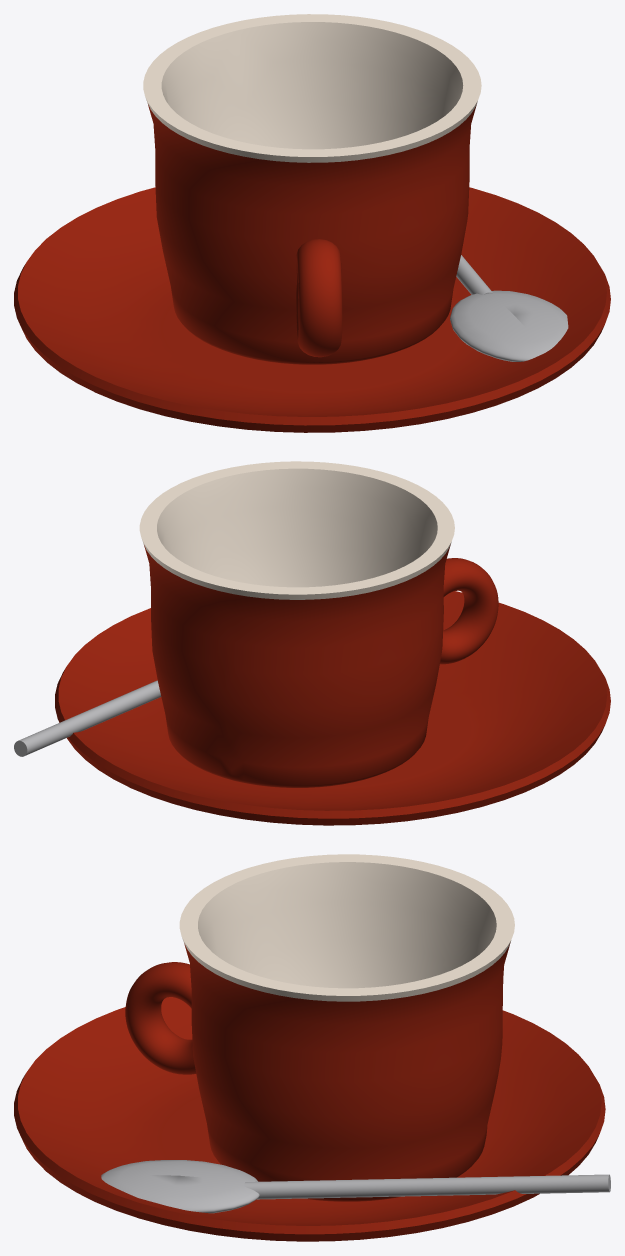
The picture shows the model from 3 angles, top to bottom: view 1: azimuth 30°, elevation 25°; view 2: azimuth 150°, elevation 25°; view 3: azimuth 270°, elevation 25°; orthographic projection. The views are drawn at different scales.
Visible parts, largest first — view 1: saucer, cup, cup_glaze, spoon_bowl, spoon_handle; view 2: cup, saucer, cup_glaze, spoon_handle; view 3: cup, saucer, cup_glaze, spoon_handle, spoon_bowl.
Boxes of the visible parts, x1,y1,x2,y2 form: saucer: (14, 187, 610, 432); cup: (148, 104, 476, 364); cup_glaze: (143, 14, 481, 162); spoon_bowl: (450, 290, 568, 361); spoon_handle: (456, 255, 492, 294); cup: (144, 544, 498, 787); saucer: (55, 591, 610, 825); cup_glaze: (139, 461, 454, 599); spoon_handle: (14, 680, 161, 756); cup: (125, 942, 510, 1201); saucer: (14, 997, 605, 1241); cup_glaze: (179, 854, 514, 1001); spoon_handle: (244, 1174, 610, 1199); spoon_bowl: (101, 1160, 259, 1213).
Bounding box in the file's own units: 0.12 × 0.0538 × 0.121.
